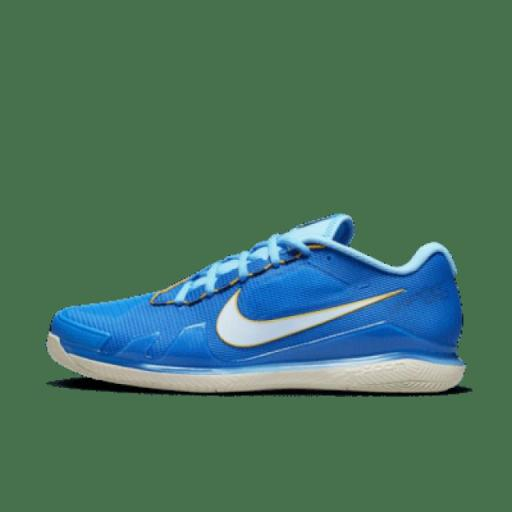Nike: (211, 283, 411, 353)
